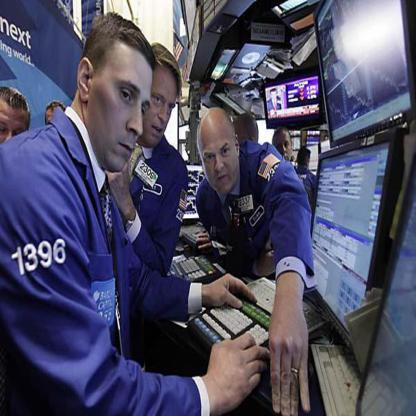face: (89, 46, 153, 172), (139, 67, 178, 148), (198, 123, 240, 192), (1, 107, 29, 165), (276, 133, 292, 165), (47, 112, 63, 143), (301, 156, 310, 172), (272, 92, 277, 101)
